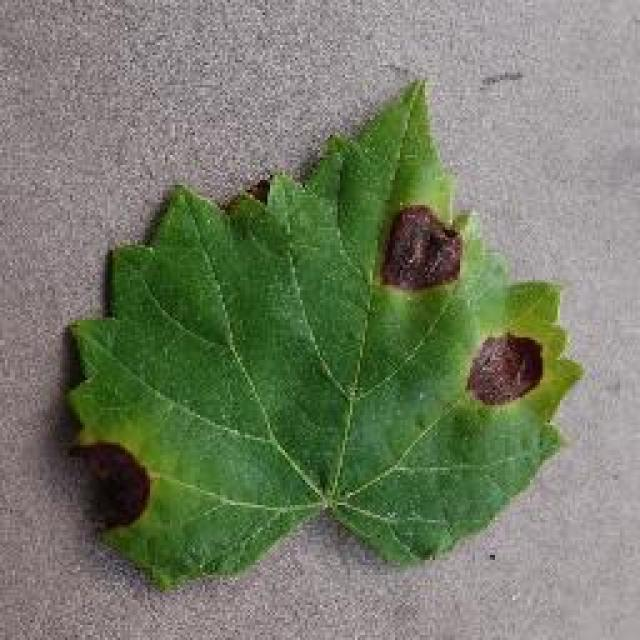Grape___Black_rot: (62, 74, 590, 598)
